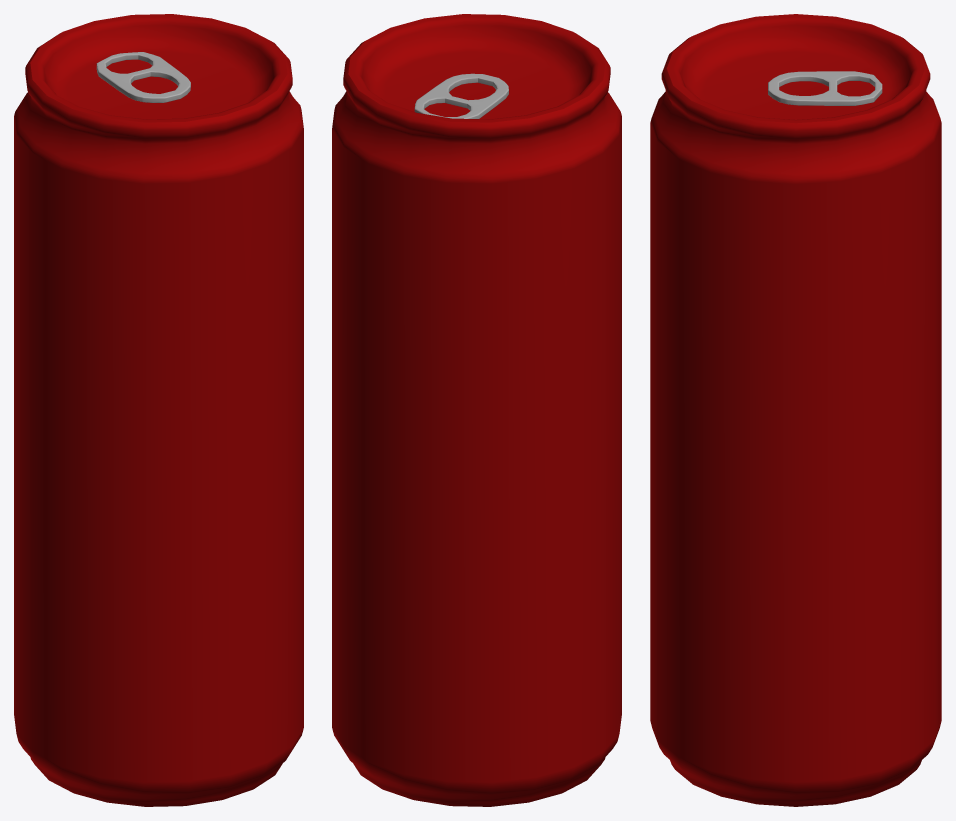
File: Can.fbx
3 views of the same model, side by side, from view 1: azimuth 30°, elevation 25°; view 2: azimuth 150°, elevation 25°; view 3: azimuth 270°, elevation 25° (orthographic).
Visible parts, largest first — view 1: CocaColaALU2; view 2: CocaColaALU2; view 3: CocaColaALU2.
Part boxes in pixels (x1,y1,x2,y2): CocaColaALU2: (14,14,303,806); CocaColaALU2: (332,14,621,806); CocaColaALU2: (650,14,941,806).
Bounding box in the file's own units: 11.8 × 30.6 × 11.8.
